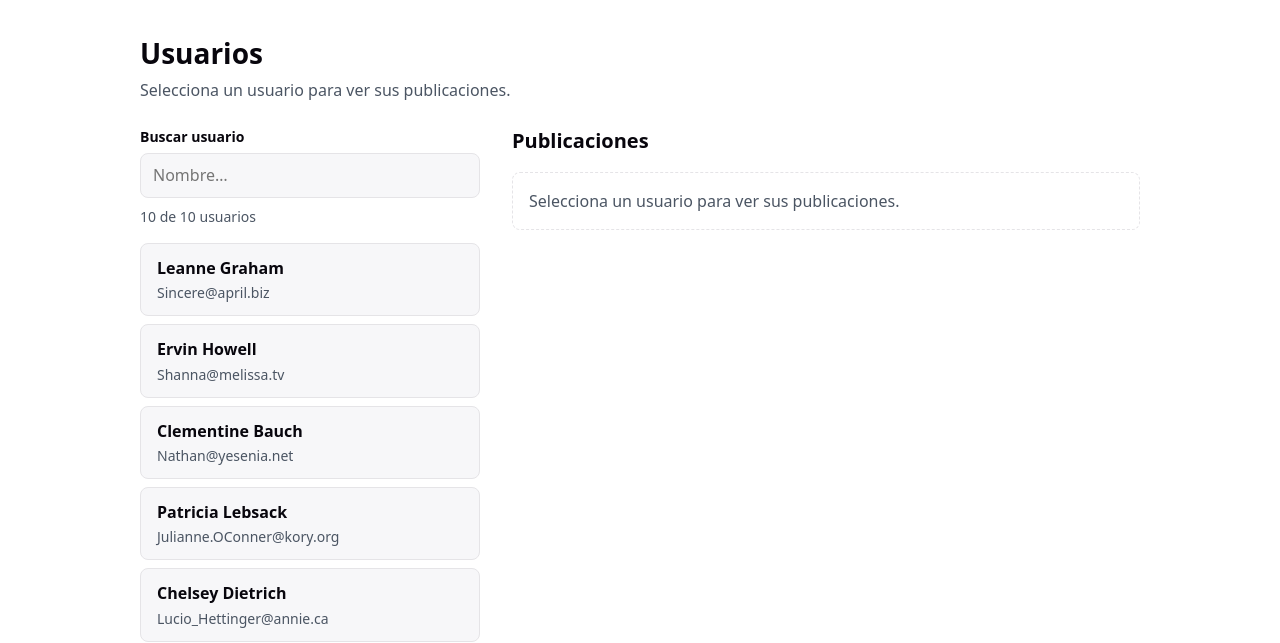
formulario de publicación › revierte la publicación optimista si el POST falla
Click the button "Leanne Graham Sincere@april.biz" at {"x": 220, "y": 268}, box [140, 243, 480, 316]
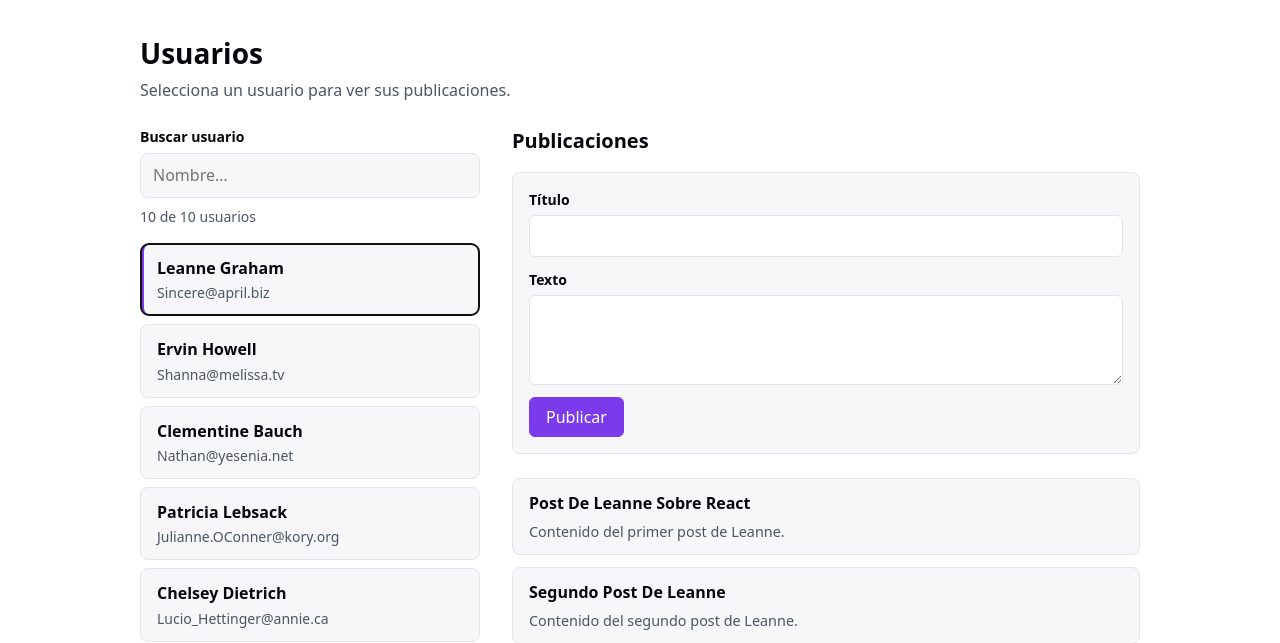
Check: the heading "Post de Leanne sobre React" is shown, box [529, 492, 750, 514]
Type "Post que falla" into the field labelled "Título" at {"x": 826, "y": 236}, box [529, 215, 1123, 257]
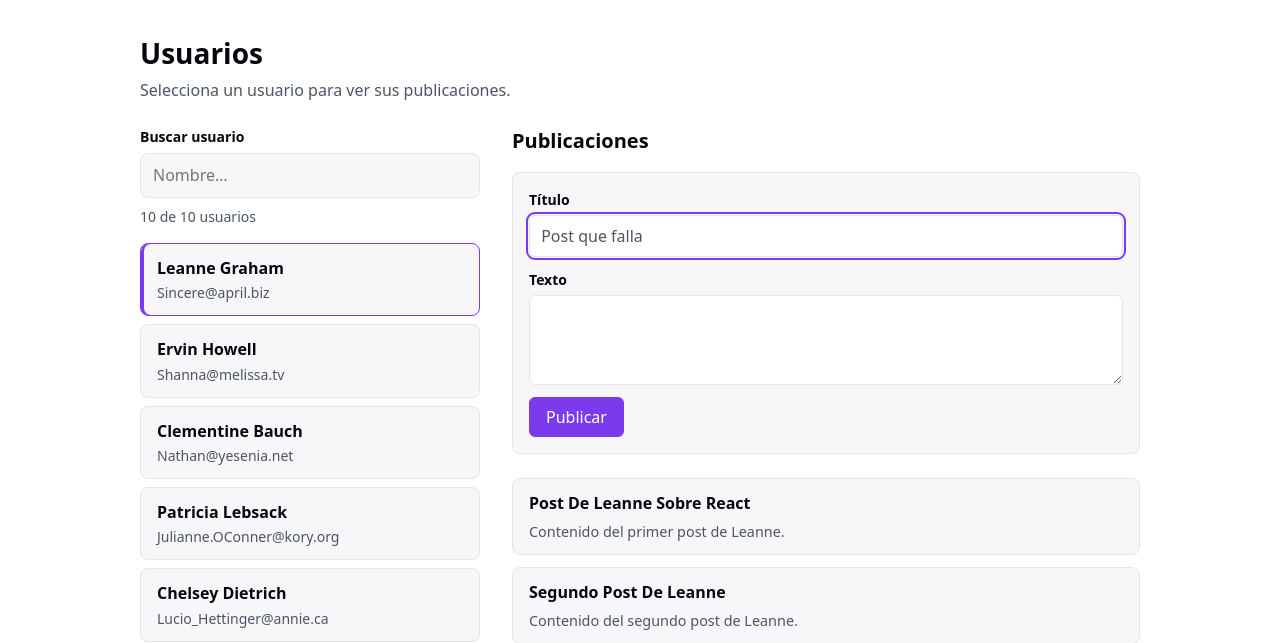
Type "Contenido" into the text box labelled "Texto" at {"x": 826, "y": 340}, box [529, 295, 1123, 385]
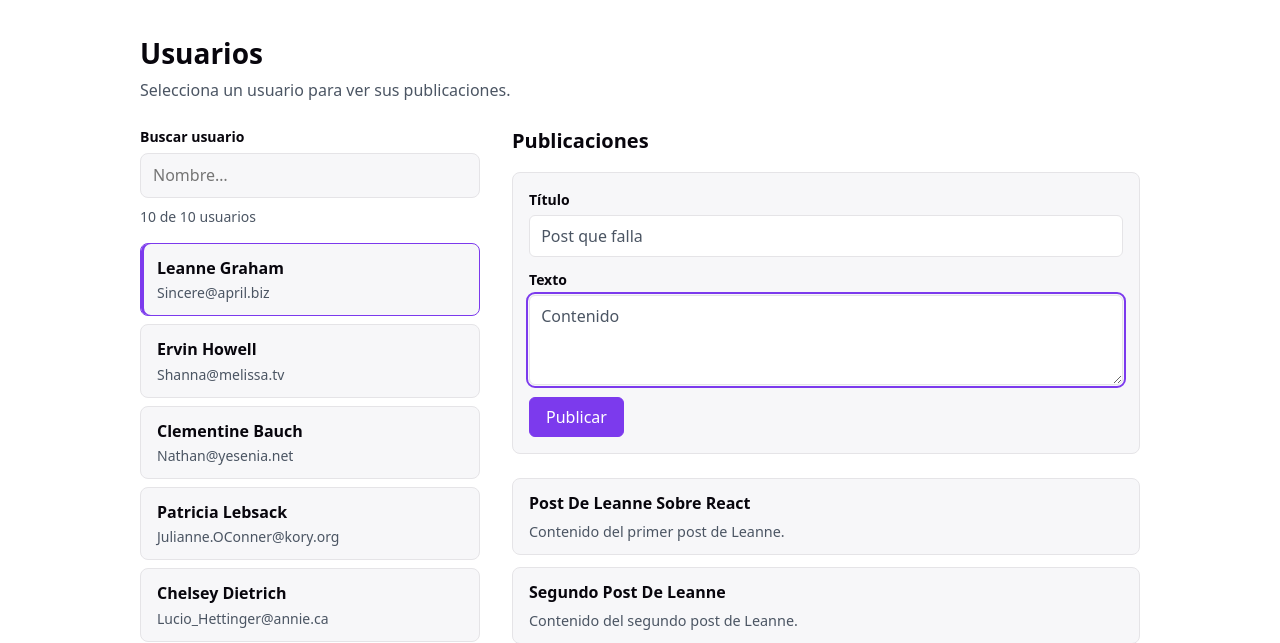
Click the button "Publicar" at {"x": 576, "y": 417}, box [529, 397, 624, 437]
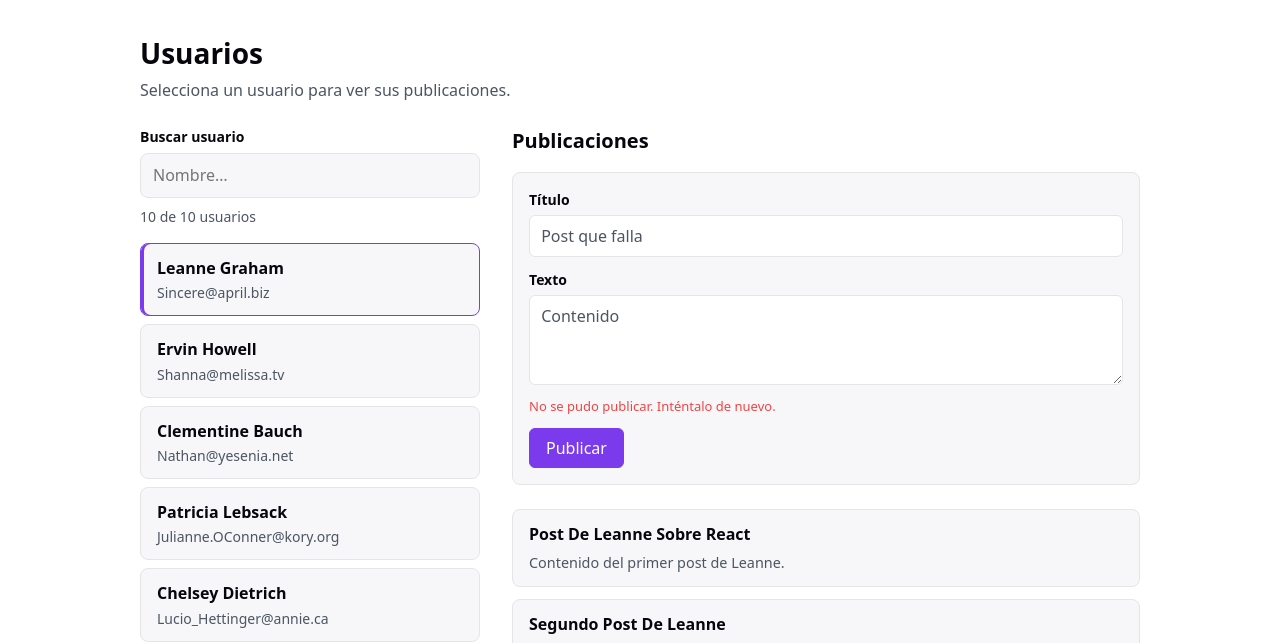
Check: the heading "Post de Leanne sobre React" is shown, box [529, 524, 750, 546]
Check: the text "No se pudo publicar. Inténtalo de nuevo." is shown, box [529, 397, 776, 415]
